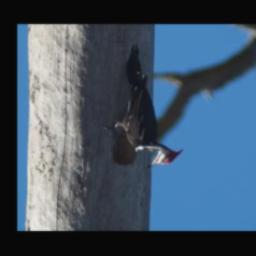Woodpecker: (99, 44, 184, 170)
